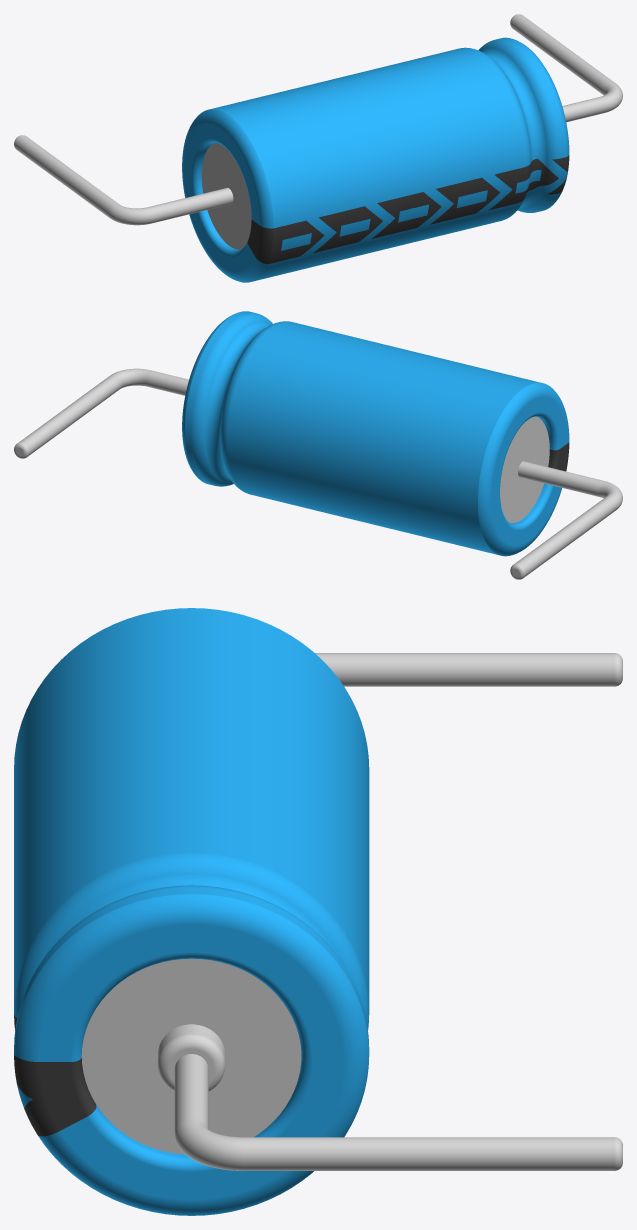
Rendered from CAP-TH_BD6.3-L12.0-P20.32-D0.6.obj.
The picture shows the model from 3 angles, top to bottom: view 1: azimuth 30°, elevation 25°; view 2: azimuth 150°, elevation 25°; view 3: azimuth 270°, elevation 25°; orthographic projection. The views are drawn at different scales.
Visible parts, largest first — view 1: Main Part, Text Part, Pins, Left Body Big, Left Body Small, Right Body Big; view 2: Main Part, Pins, Left Body Big, Right Body Big, Left Body Small; view 3: Main Part, Right Body Big, Pins, Right Body Small, Right Body Minus, Text Part.
Boxes of the visible parts, x1,y1,x2,y2 form: Main Part: (201,37,566,281); Text Part: (233,157,566,264); Pins: (14,14,622,225); Left Body Big: (182,109,273,282); Left Body Small: (247,219,273,264); Right Body Big: (516,40,569,204); Main Part: (184,311,549,554); Pins: (14,368,622,579); Left Body Big: (478,382,569,556); Right Body Big: (182,313,235,477); Left Body Small: (548,442,569,471); Main Part: (14,608,369,1154); Right Body Big: (14,894,369,1215); Pins: (174,653,622,1170); Right Body Small: (14,1055,96,1136); Right Body Minus: (157,1024,225,1091); Text Part: (14,1014,158,1104).
Size of the model in its own units: 20.92 by 6.3 by 10.8.
